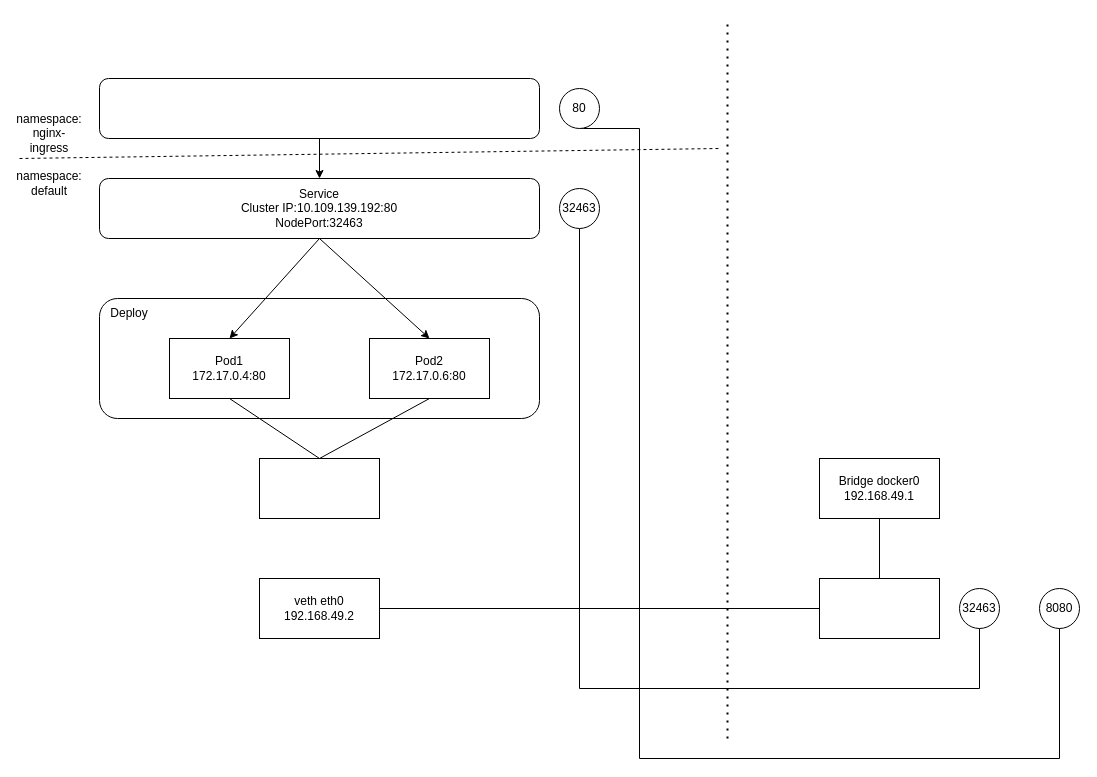
This 1097x777 diagram has some shape labels left out. The shapes that lost their labels are listed below. From the top down, each one's centre as x and y in pixels, then its label:
[319,108]: Ingress ngx.test:80
[319,488]: Bridge docker0 172.17.0.1
[879,608]: veth vethc23e552
